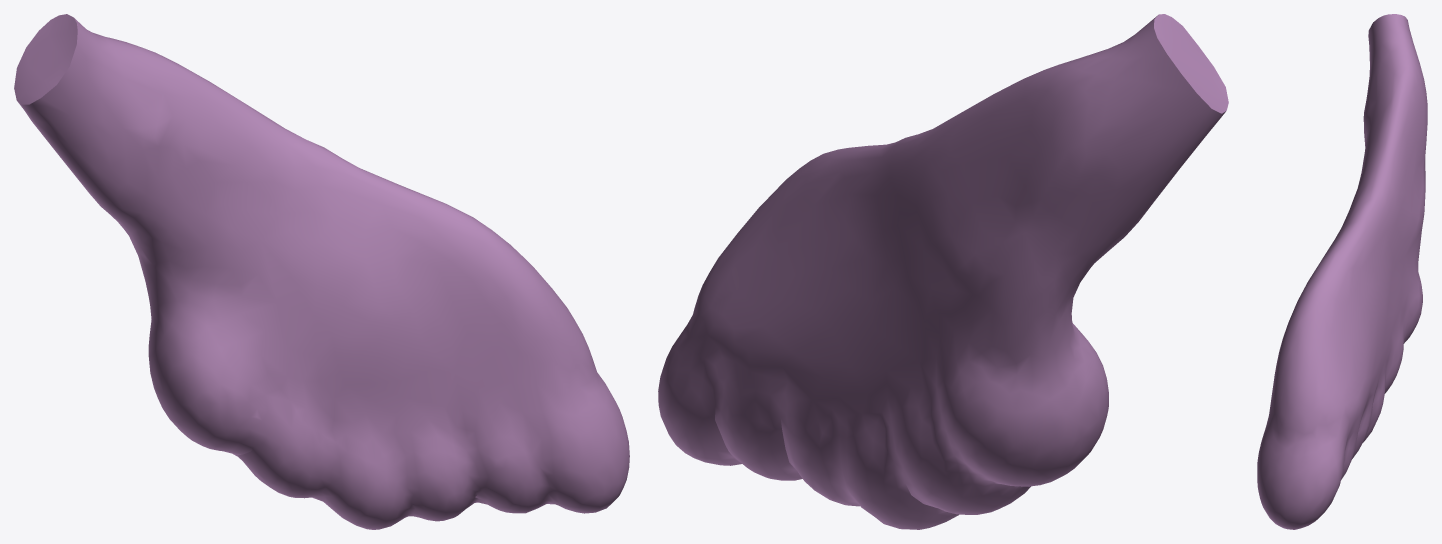
3 views of the same model, side by side, from view 1: azimuth 30°, elevation 25°; view 2: azimuth 150°, elevation 25°; view 3: azimuth 270°, elevation 25° (orthographic). The views are drawn at different scales.
Visible parts, largest first — view 1: 左侧绒球; view 2: 左侧绒球; view 3: 左侧绒球.
Part boxes in pixels (box(x1,y1,x2,y2)): 左侧绒球: box(14, 14, 629, 529); 左侧绒球: box(658, 14, 1228, 529); 左侧绒球: box(1257, 14, 1427, 529).
Bounding box in the file's own units: 0.0271 × 0.0261 × 0.011.
